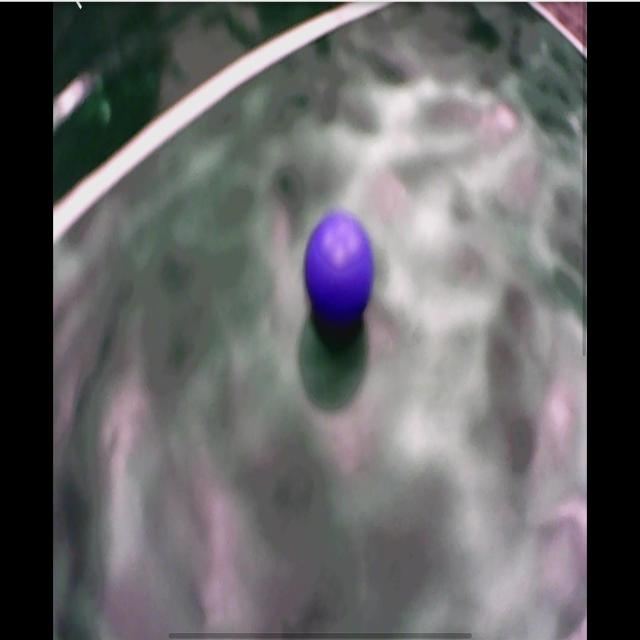ball: (304, 213, 375, 325)
